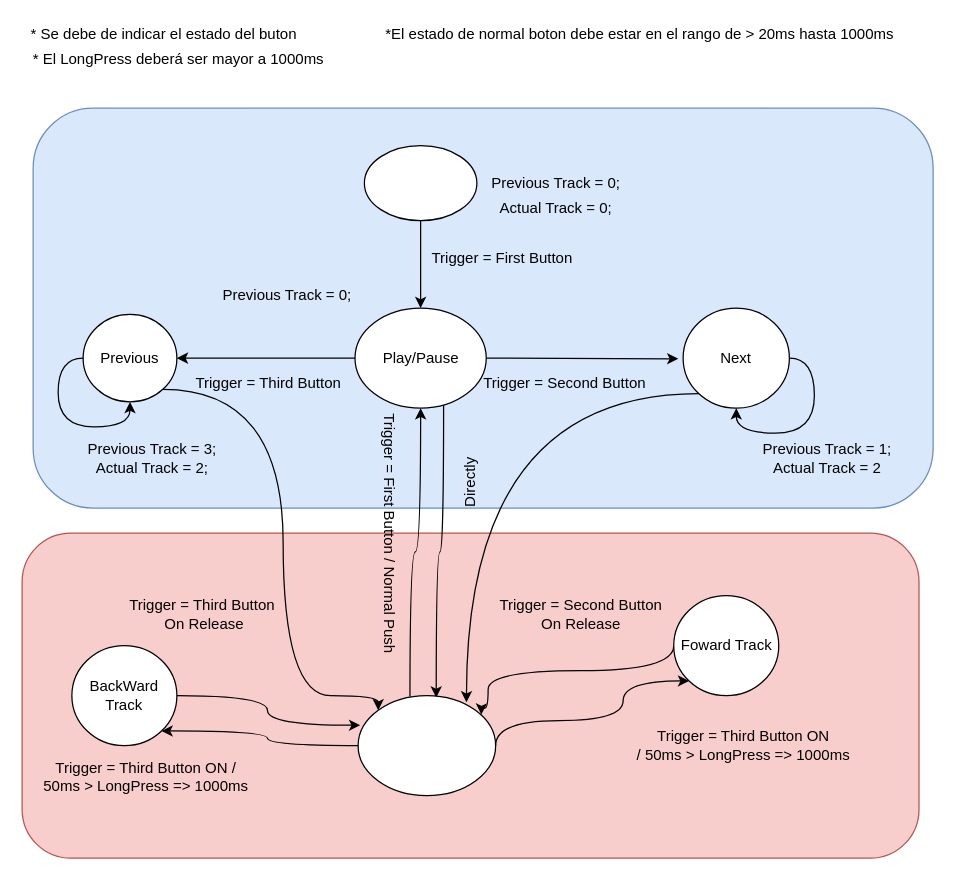
Some shapes in this 955 by 880 pixel diagram are drawn without their labels. The shapes that lost their labels are listed below. From the top down, each one's centre as x and y in pixels, then its label:
At [420,182]: "STOP".
At [426,745]: "Rotabit Counter".
